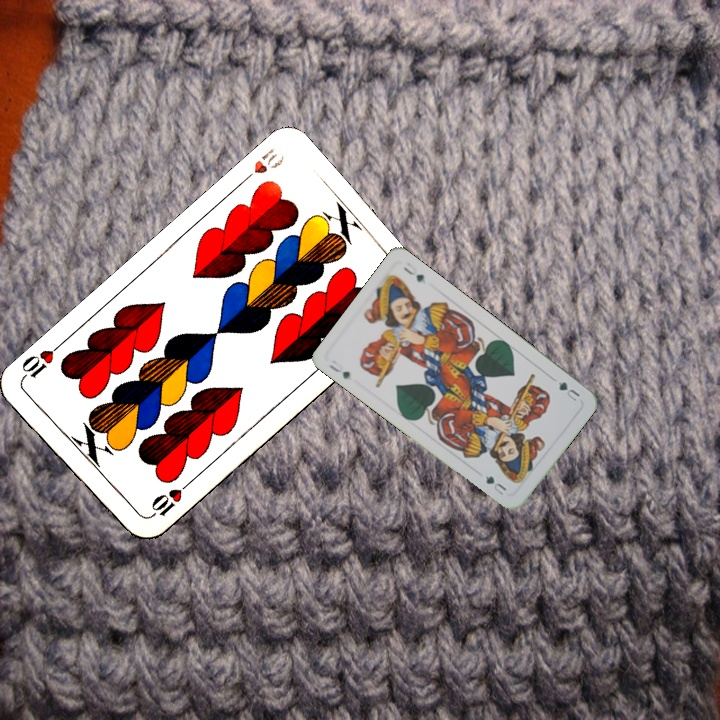GU: (554, 377, 583, 405), (324, 360, 353, 382)
H10: (236, 145, 288, 188), (143, 478, 192, 522)
